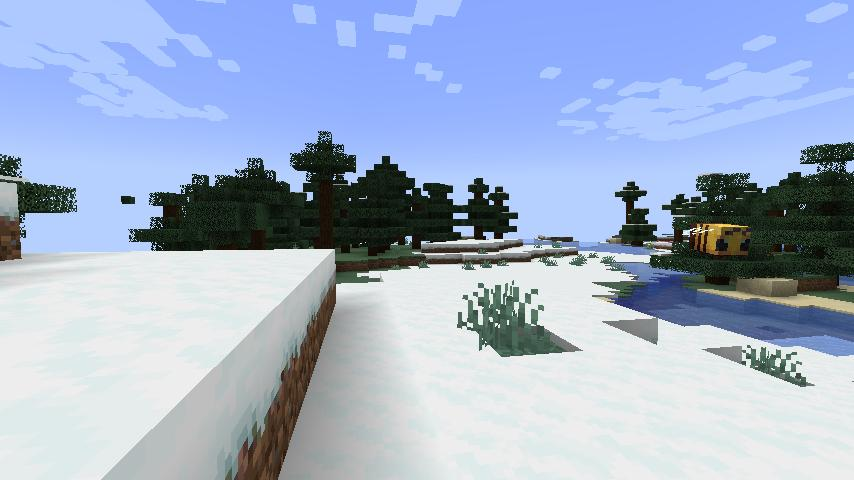bee: (681, 221, 753, 259)
